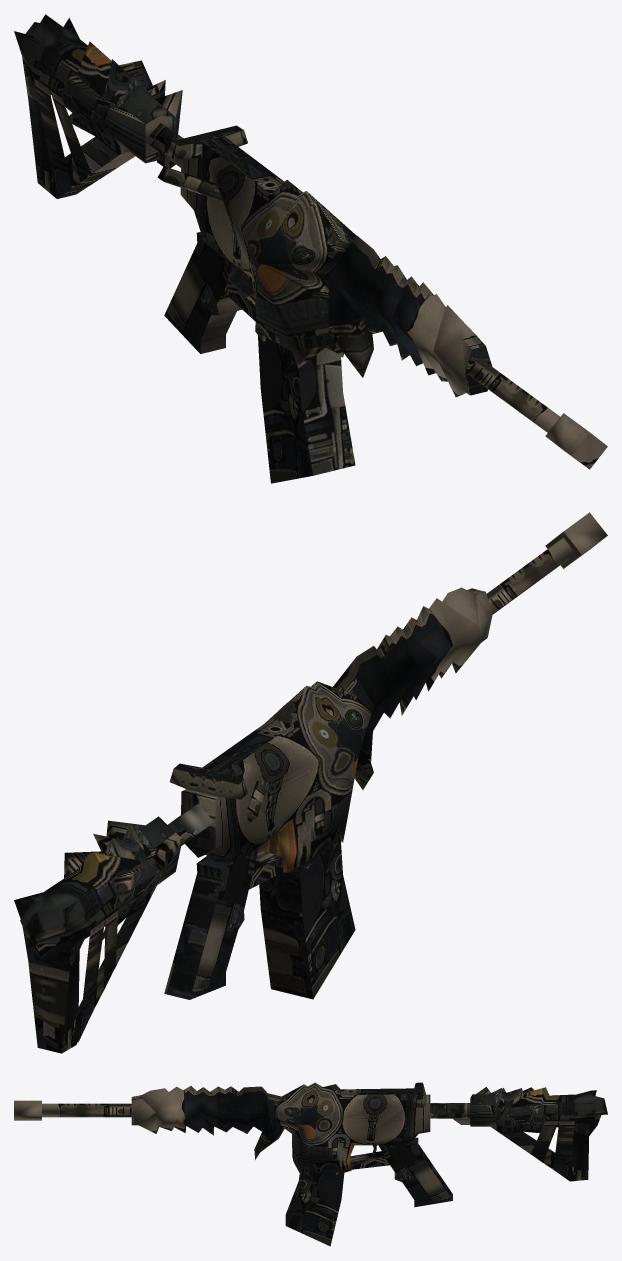
The model's file is Assault_Rifle_Object002_Body_Main_(000416).glb.
3 views of the same model, one above another, from view 1: azimuth 30°, elevation 25°; view 2: azimuth 150°, elevation 25°; view 3: azimuth 270°, elevation 25° (orthographic). The views are drawn at different scales.
Visible parts, largest first — view 1: Object002; view 2: Object002; view 3: Object002.
Part boxes in pixels (x1=…): Object002: x1=14, y1=14, x2=607, y2=483; Object002: x1=14, y1=512, x2=607, y2=1053; Object002: x1=14, y1=1082, x2=607, y2=1246.
Bounding box in the file's own units: 0.118 × 0.3341 × 1.13.
1 material, 1 textured.
